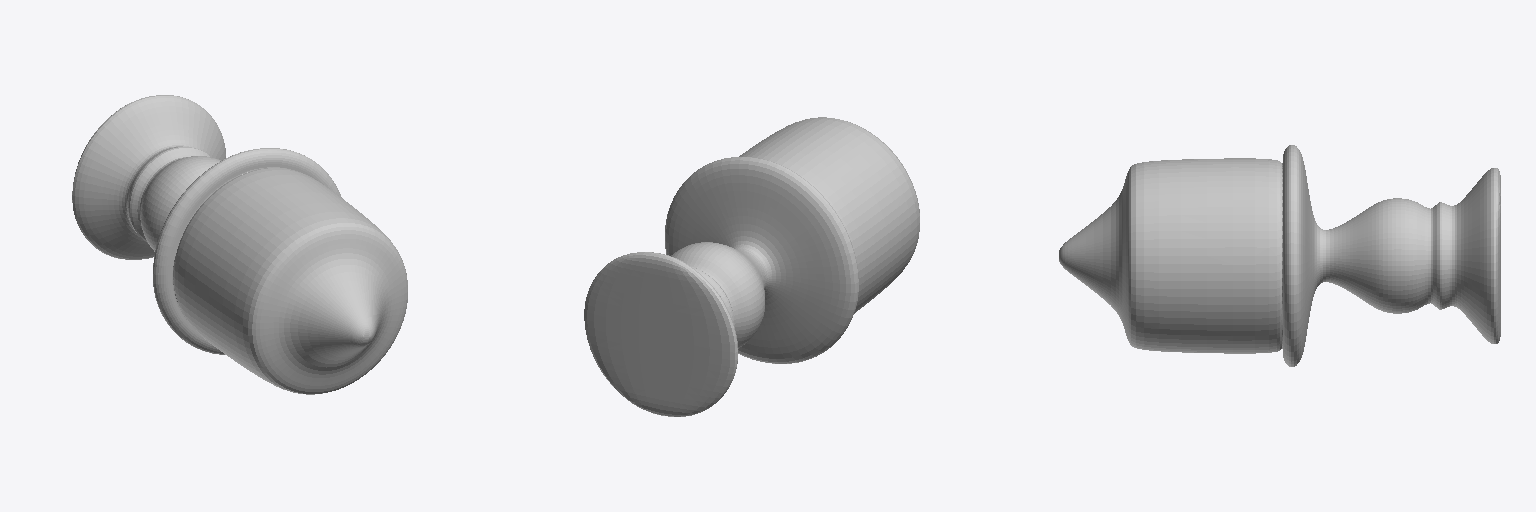
The model's file is CandleStick.obj.
3 views of the same model, side by side, from view 1: azimuth 30°, elevation 25°; view 2: azimuth 150°, elevation 25°; view 3: azimuth 270°, elevation 25° (orthographic).
Visible parts, largest first — view 1: CandleStick; view 2: CandleStick; view 3: CandleStick.
Boxes of the visible parts, x1,y1,x2,y2 form: CandleStick: [72, 95, 407, 394]; CandleStick: [584, 117, 919, 416]; CandleStick: [1059, 145, 1500, 366].
Bounding box in the file's own units: 4.1 × 4.1 × 8.16.